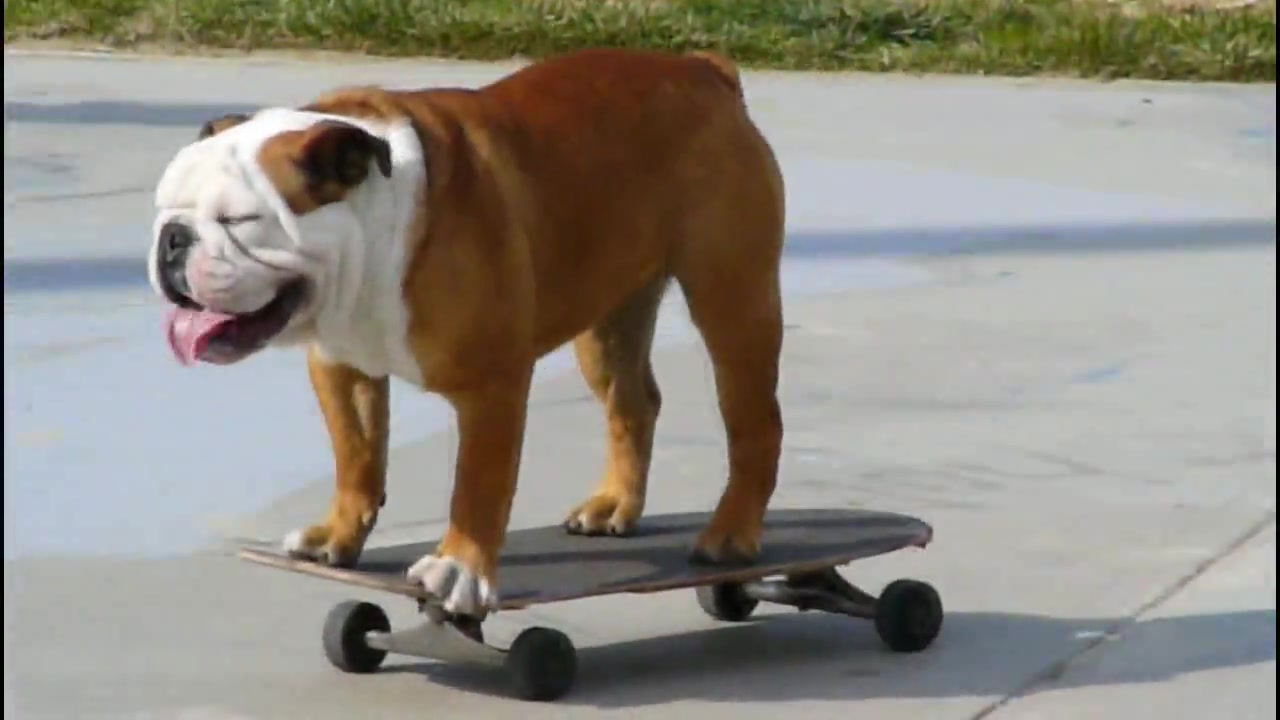dog: (147, 39, 788, 624)
